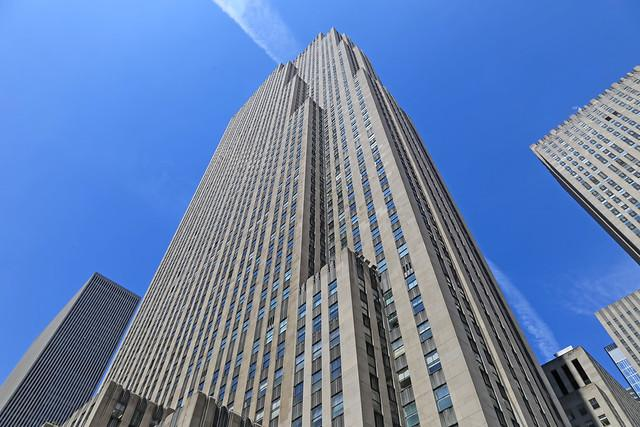building: (79, 22, 579, 427)
